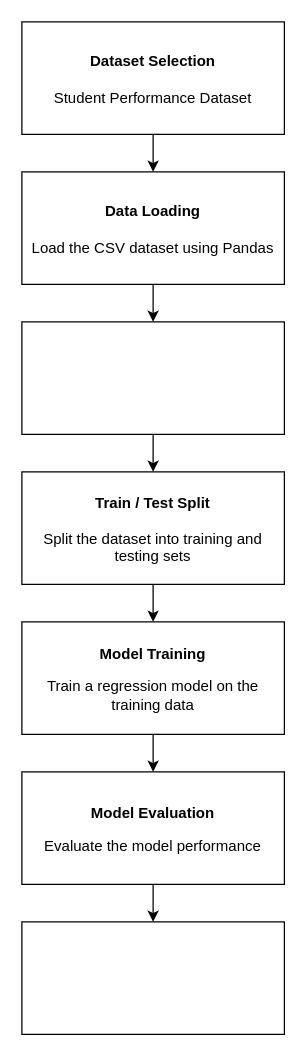
Some shapes in this 306 by 1056 pixel diagram are drawn without their labels. The shapes that lost their labels are listed below. From the top down, each one's centre as x and y in pixels, then its label:
At [152,377]: "Data Preprocessing Prepare data and handle missing values".
At [152,977]: "Results Predict student performance index".
